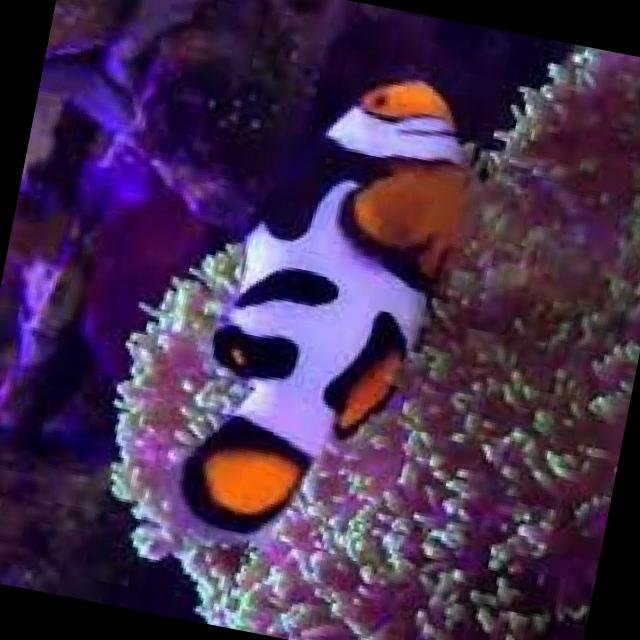ClownFish: (164, 52, 506, 574)
